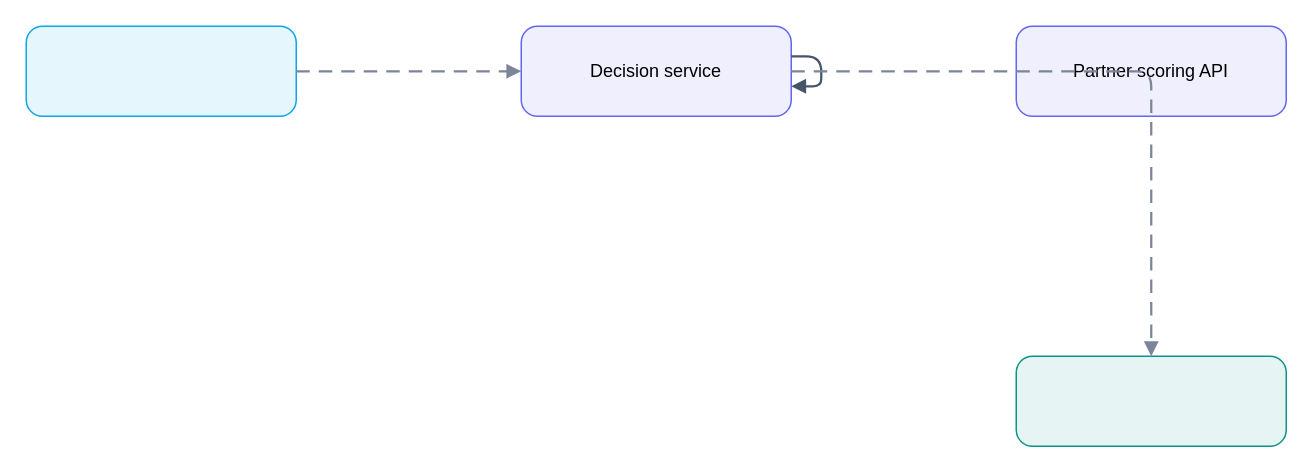
The diagram is 1313 pixels wide and 473 high, and some of its shapes have lost their labels. Here are the shapes that lost their labels. From the top down, the centre of each, then its label:
At (160,70): "Applications".
At (1150,400): "Case store".
